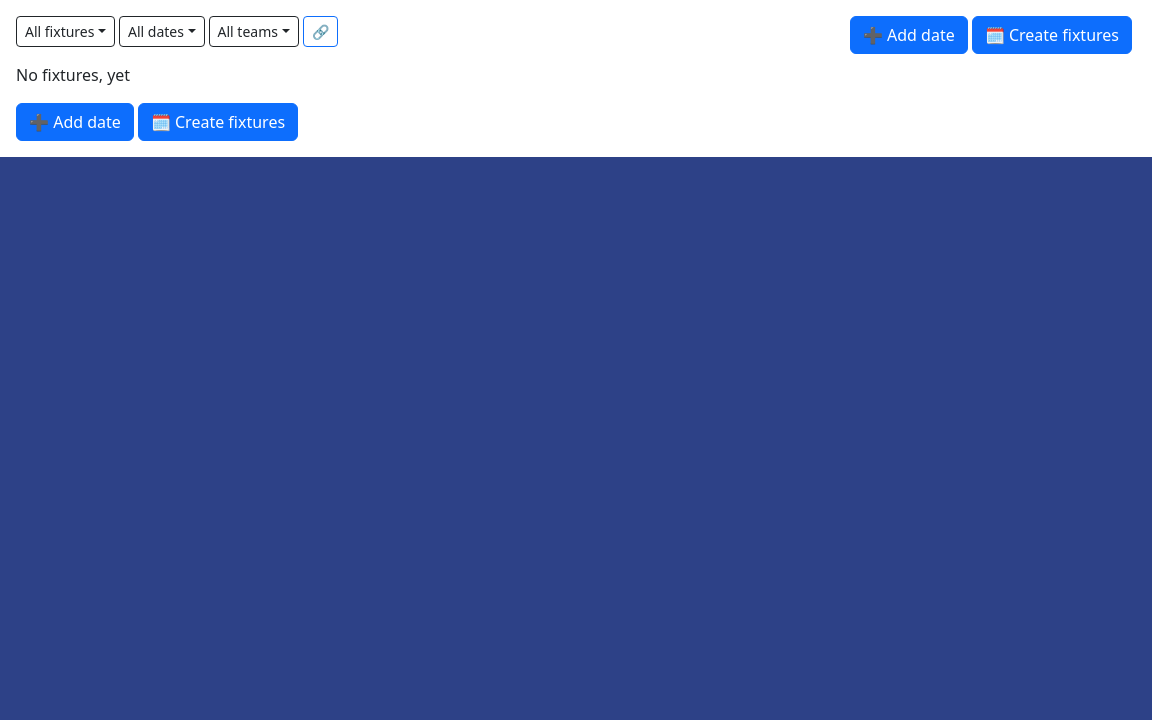
Test case: DivisionFixtures › when logged in › can close add date dialog
The width and height of the screenshot is (1152, 720).
What coordinates should you click on to do the following:
click the 1st button "➕ Add date"
I would click on:
 (909, 35)
Its box is [850,16,968,54].
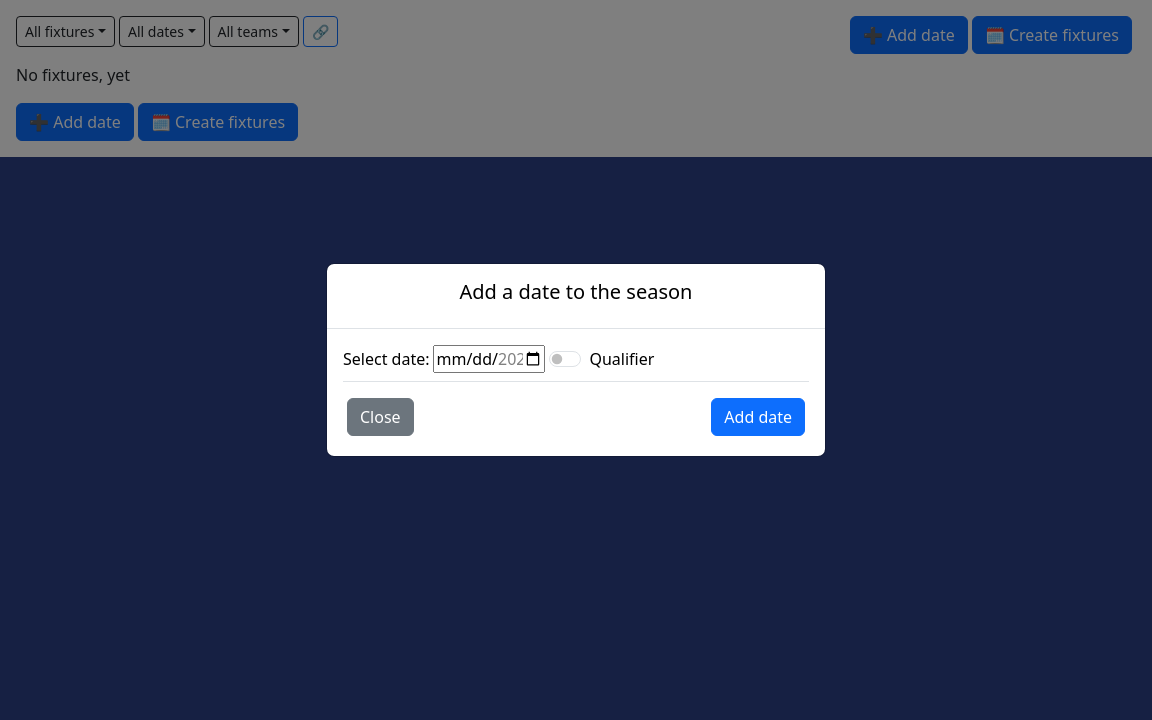
What coordinates should you click on to do the following:
click the button "Close"
I would click on:
 (380, 417)
Its box is [347,398,414,436].
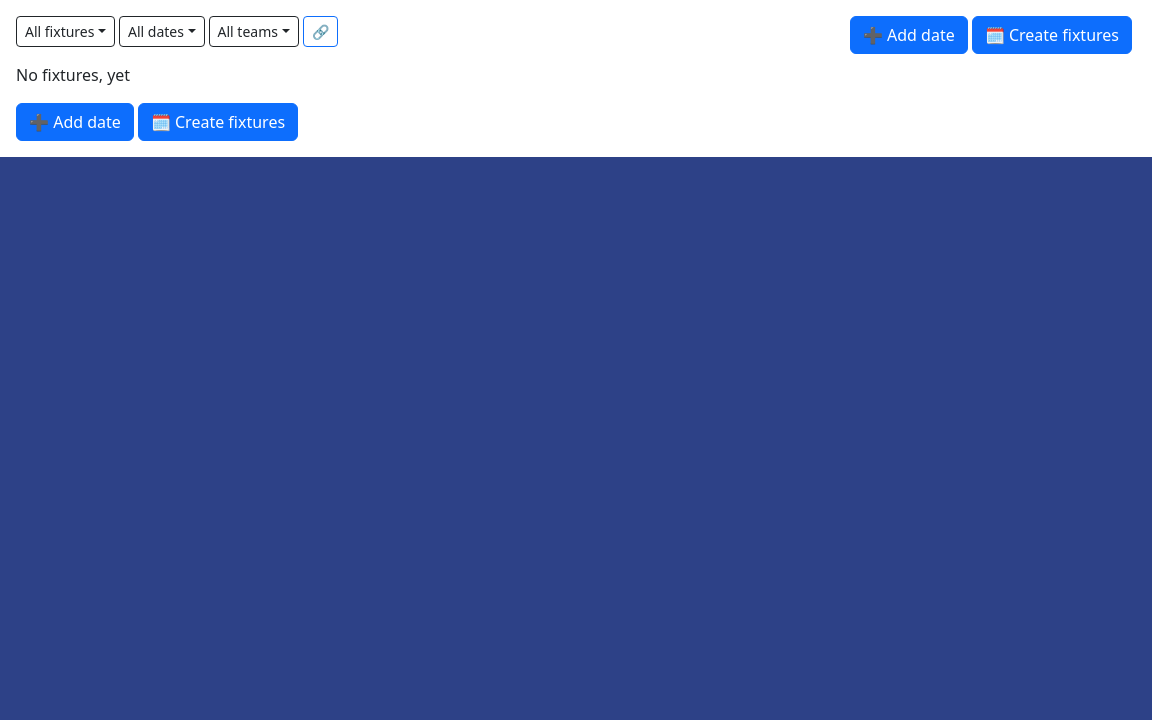
Now the element with class "modal-dialog" is gone
